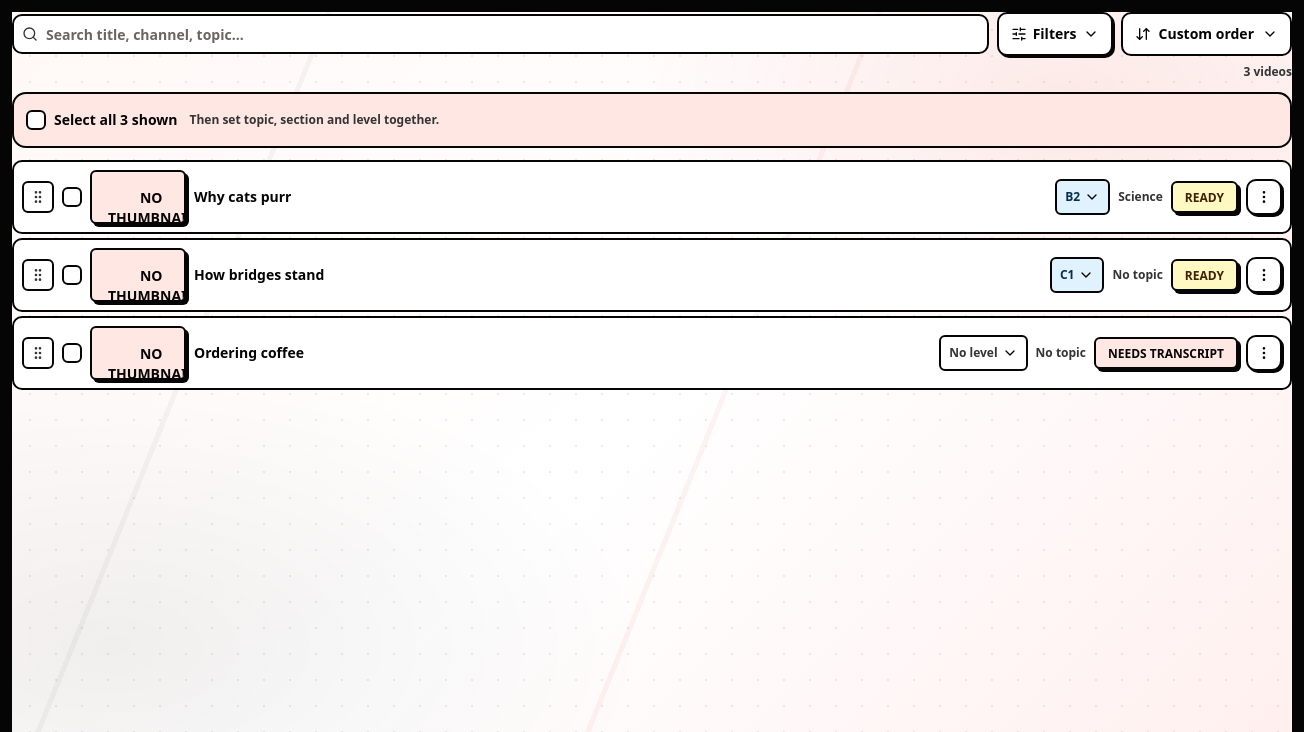
Test: VideoAssignTable filters › combines level chips with OR and shows each option count
Step 1. Click the button "Filters" → (1055, 34), box 997,12 -> 1113,56
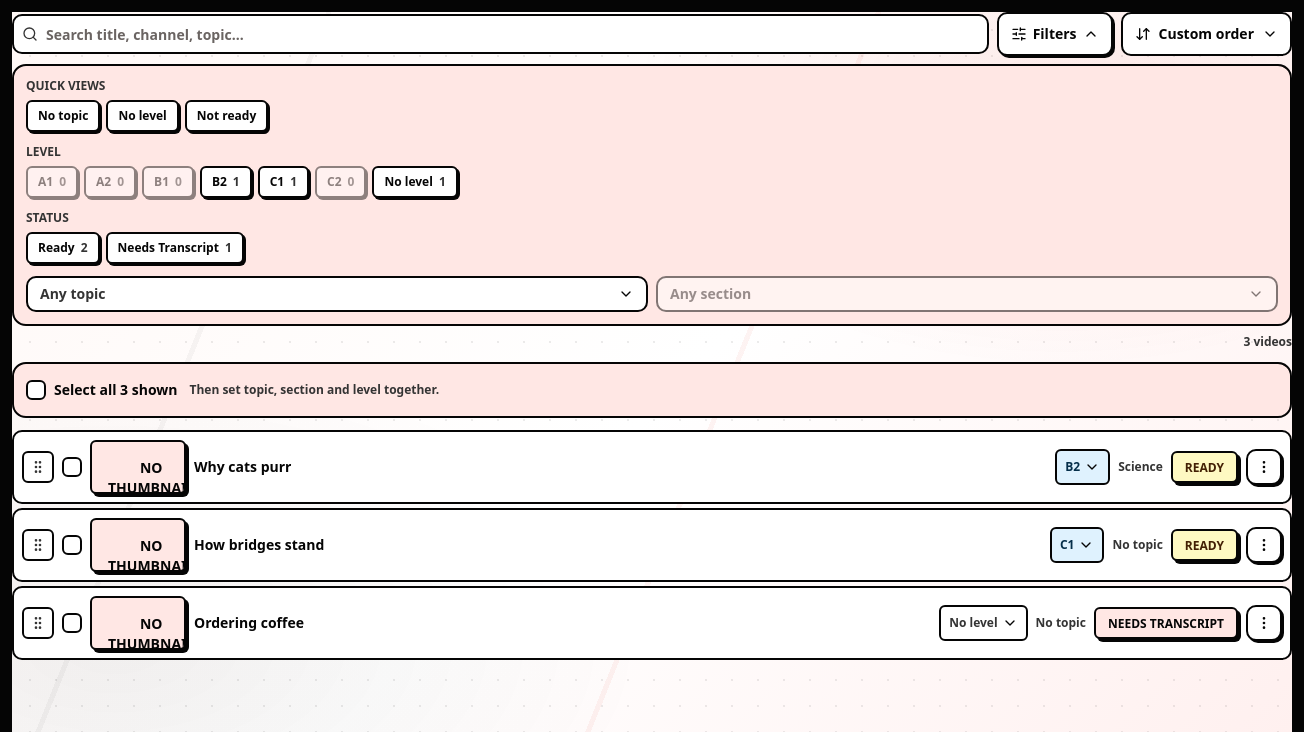
Step 2. Click the button named "B2 (1)" → (226, 182), box 200,166 -> 252,198
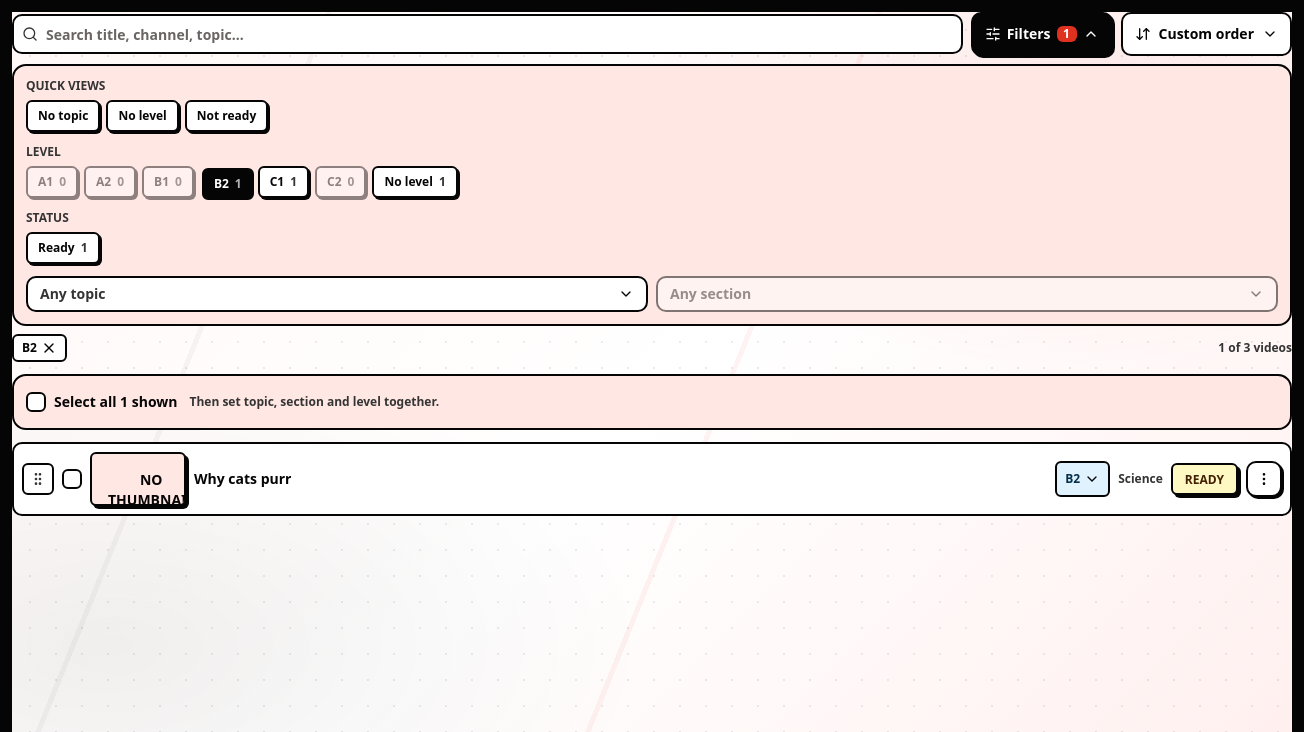
Step 3. Click the button with aria-label "No level (1)" → (415, 182), box 372,166 -> 458,198
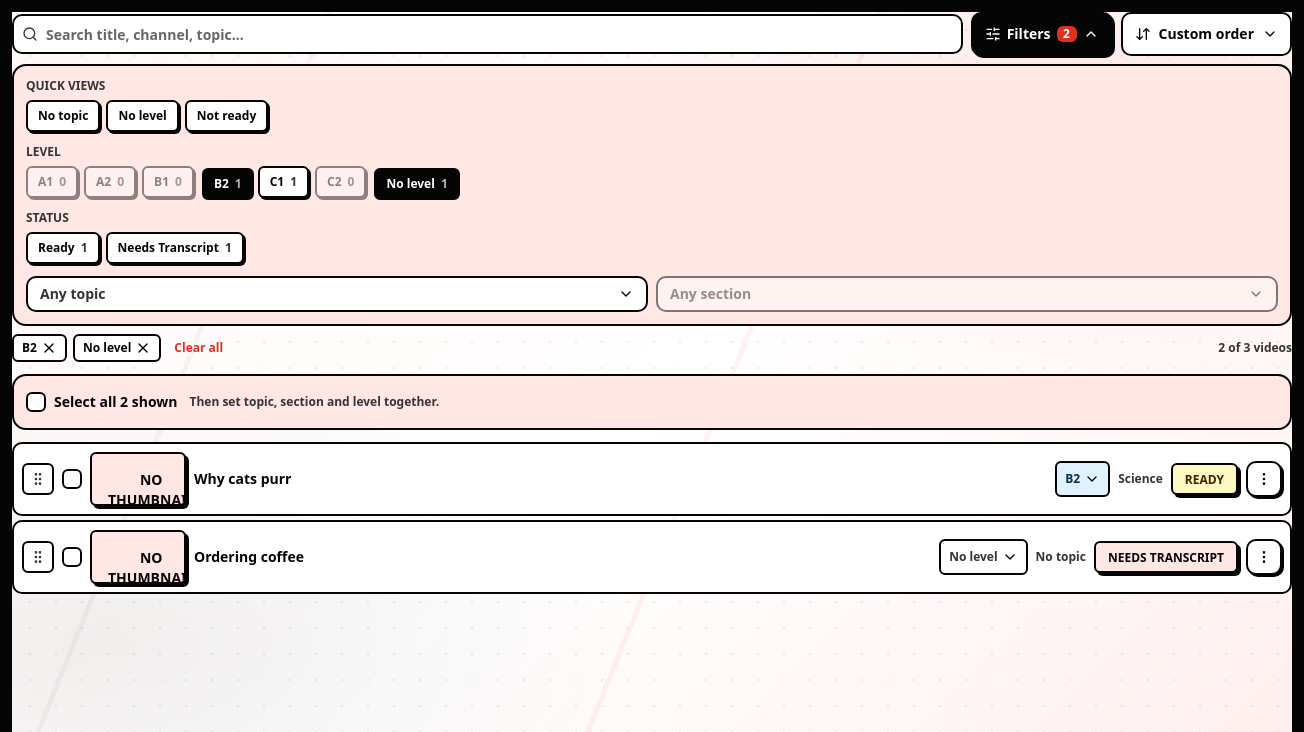
Check: the button with aria-label "Filters, 2 active" is shown, box 971,12 -> 1113,56
